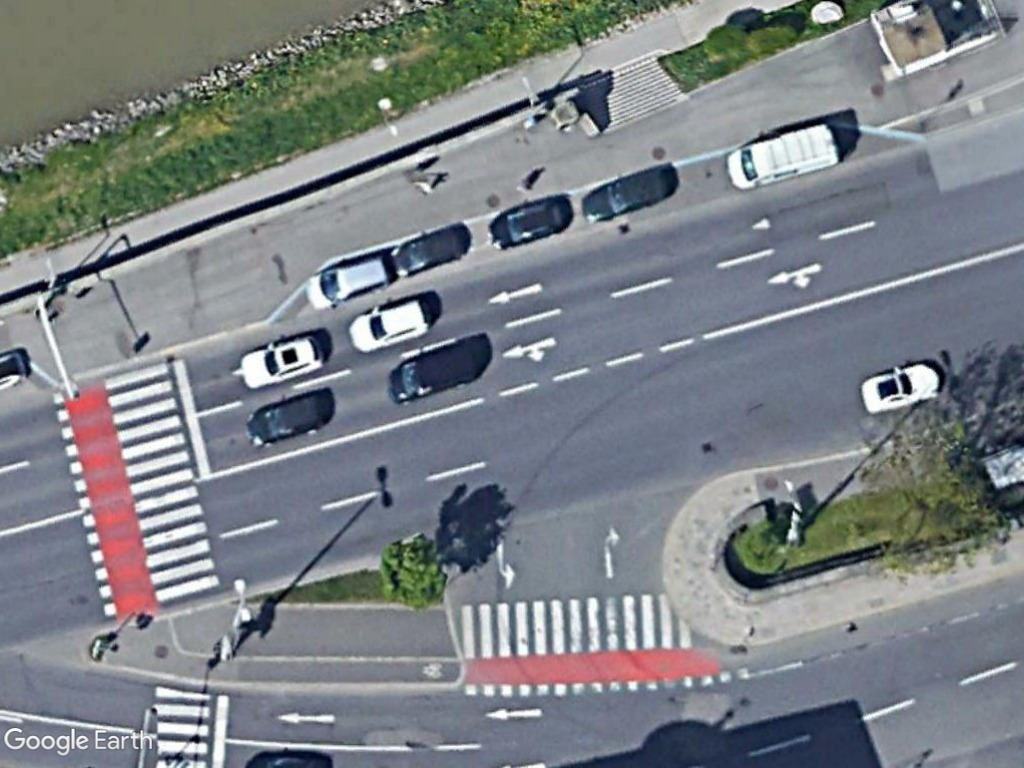car: (577, 160, 677, 227), (232, 329, 330, 394), (483, 189, 578, 254), (302, 249, 394, 316), (853, 353, 948, 417), (242, 384, 335, 449), (343, 293, 435, 356), (385, 220, 474, 284)
van: (718, 116, 847, 194)
